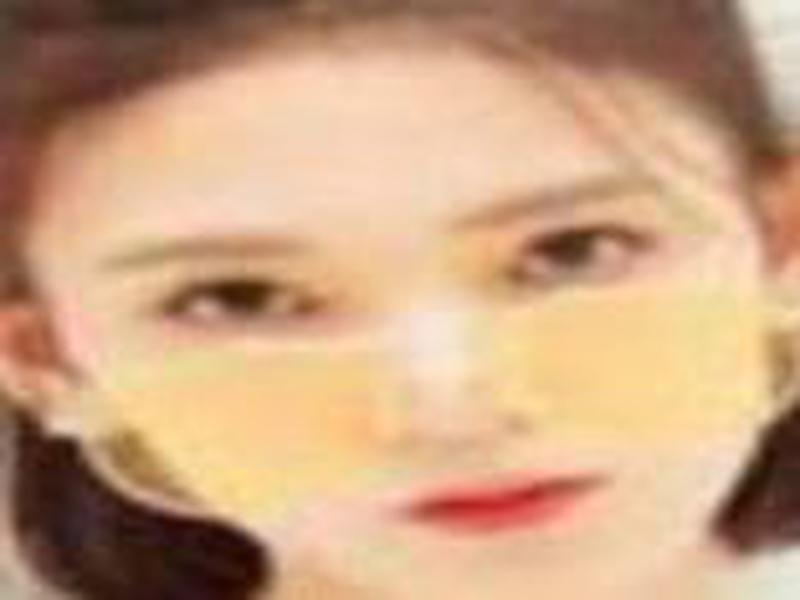without_mask: (39, 129, 776, 590)
